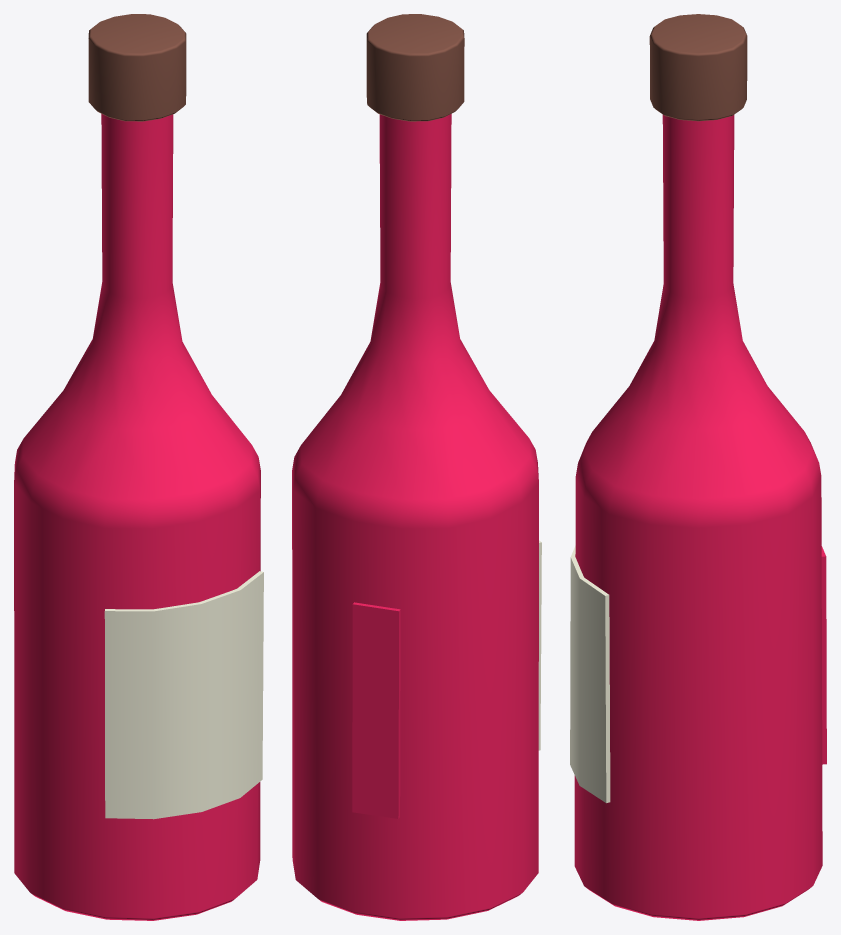
The model's file is Store_1_Bottle_1.glb.
3 renders of one model, left to right at view 1: azimuth 30°, elevation 25°; view 2: azimuth 150°, elevation 25°; view 3: azimuth 270°, elevation 25°, orthographic.
Parts seen in each view (by area): view 1: Store_1_Bottle_1; view 2: Store_1_Bottle_1; view 3: Store_1_Bottle_1.
Boxes of the visible parts, bbox=[...] form: Store_1_Bottle_1: bbox=[14, 14, 263, 920]; Store_1_Bottle_1: bbox=[292, 14, 541, 920]; Store_1_Bottle_1: bbox=[570, 14, 826, 920].
Size of the model in its own units: 0.165 by 0.6148 by 0.1709.
Materials: 1 (1 with a texture image).
